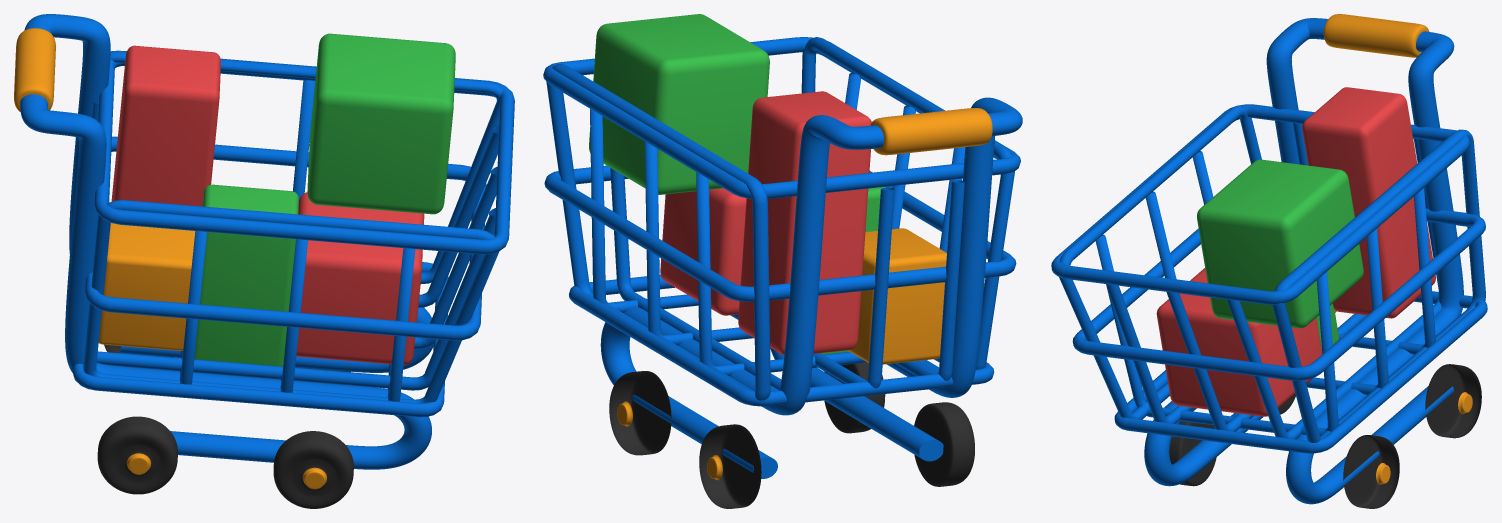
The model's file is shopping-cart-3d-animated-icon-1473393305642.glb.
The picture shows the model from 3 angles, left to right: view 1: azimuth 30°, elevation 25°; view 2: azimuth 150°, elevation 25°; view 3: azimuth 270°, elevation 25°; orthographic projection. The views are drawn at different scales.
Visible parts, largest first — view 1: Plane.015, Plane.003, Plane.004, Plane.001, Plane.002, Cylinder.001, Plane, Cube.003; view 2: Plane.015, Plane.003, Plane.004, Cylinder.001, Plane, Plane.002, Cube.003, Plane.001; view 3: Plane.015, Plane.003, Plane.004, Plane.002, Cylinder.001, Cube.003.
Boxes of the visible parts, <box> form: Plane.015: <box>20,14,514,469</box>; Plane.003: <box>307,33,455,214</box>; Plane.004: <box>111,45,220,206</box>; Plane.001: <box>194,184,298,366</box>; Plane.002: <box>296,192,424,365</box>; Cylinder.001: <box>97,344,353,508</box>; Plane: <box>98,223,195,350</box>; Cube.003: <box>14,28,55,111</box>; Plane.015: <box>543,37,1022,478</box>; Plane.003: <box>589,14,769,194</box>; Plane.004: <box>738,91,871,355</box>; Cylinder.001: <box>609,362,974,508</box>; Plane: <box>848,228,946,364</box>; Plane.002: <box>660,188,746,315</box>; Cube.003: <box>870,108,992,155</box>; Plane.001: <box>821,186,885,354</box>; Plane.015: <box>1051,18,1487,504</box>; Plane.003: <box>1197,159,1363,328</box>; Plane.004: <box>1302,87,1435,318</box>; Plane.002: <box>1156,268,1322,416</box>; Cylinder.001: <box>1169,364,1481,508</box>; Cube.003: <box>1323,14,1429,57</box>.
Bounding box in the file's own units: 3.94 × 3.4 × 3.47.
